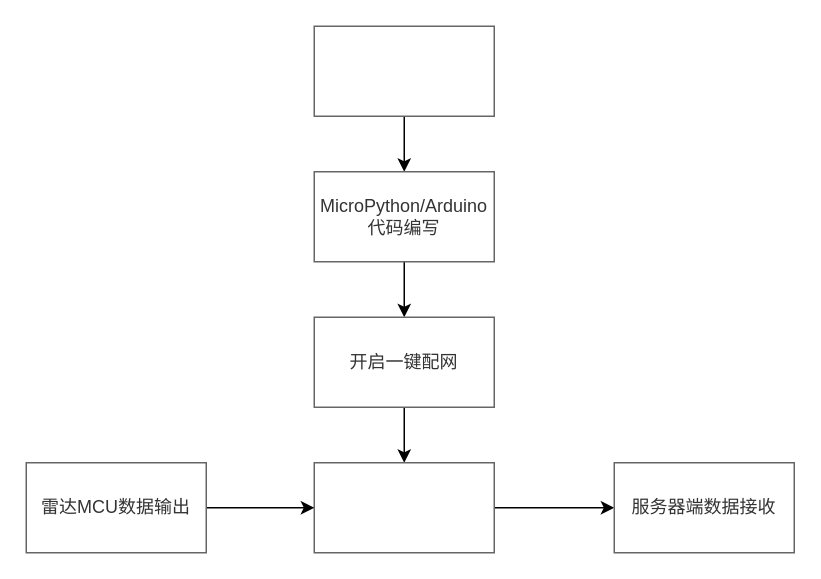
Image size: 821x579. Some labels were removed from this diagram. Here are the shapes that lost their labels. From the top down, the centre of each, then its label:
At point 403,70: "ESP8266刷对应固件".
At point 403,507: "串口--TCP透传".
